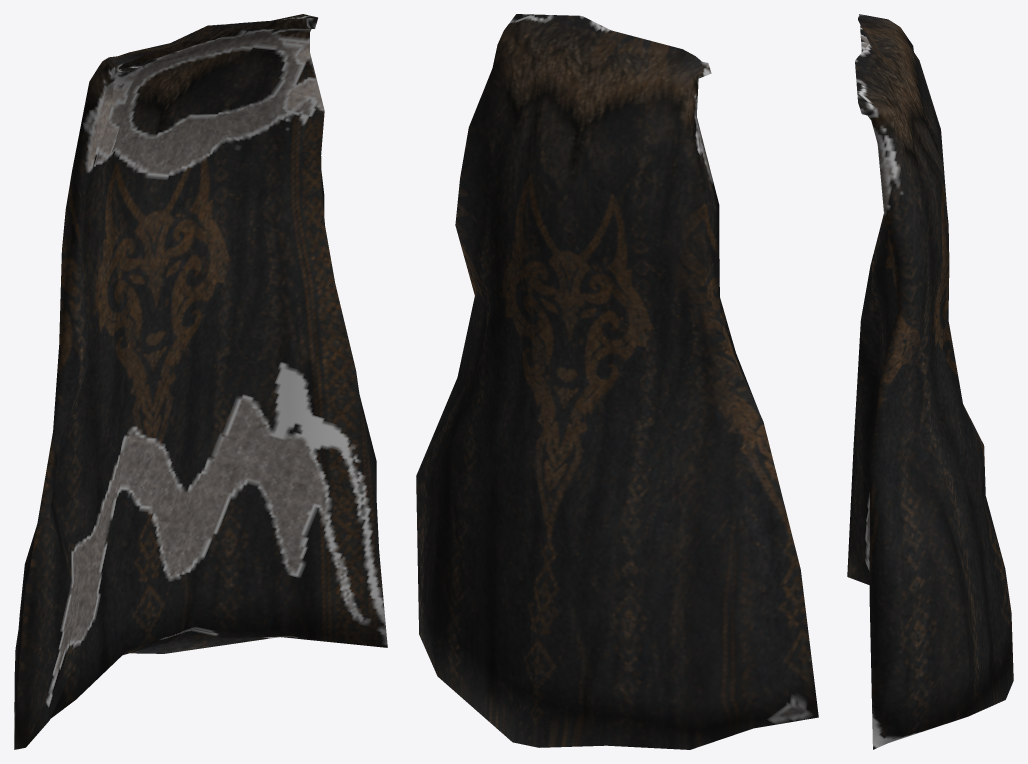
Rendered from DuelistPelerin.fbx.
The picture shows the model from 3 angles, left to right: view 1: azimuth 30°, elevation 25°; view 2: azimuth 150°, elevation 25°; view 3: azimuth 270°, elevation 25°; orthographic projection. The views are drawn at different scales.
Visible parts, largest first — view 1: ScarfBack_LowPoly.001; view 2: ScarfBack_LowPoly.001; view 3: ScarfBack_LowPoly.001.
Part boxes in pixels (x1,y1,x2,y2): ScarfBack_LowPoly.001: (14,14,387,749); ScarfBack_LowPoly.001: (416,14,818,749); ScarfBack_LowPoly.001: (847,14,1013,749).
Bounding box in the file's own units: 0.5644 × 0.9546 × 0.2239.
